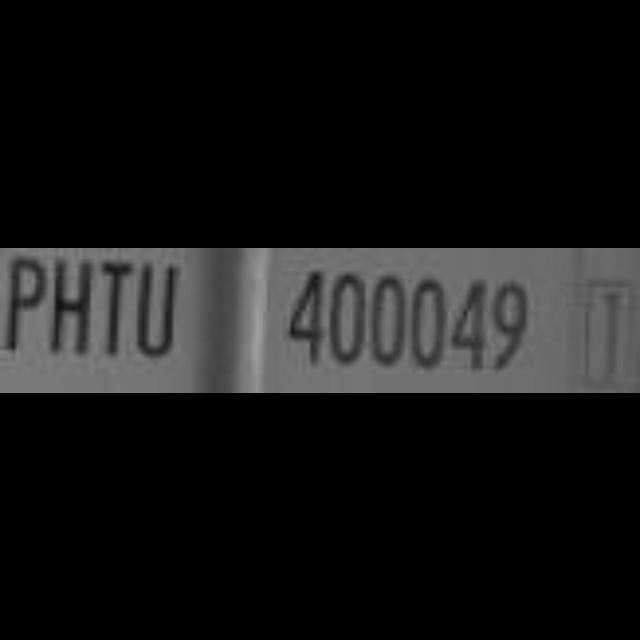0: (407, 265, 448, 375), (328, 260, 368, 368), (369, 258, 407, 370)
1: (578, 278, 640, 392)
4: (281, 260, 329, 366), (449, 270, 488, 376)
9: (490, 270, 532, 372)
h: (44, 248, 98, 360)
p: (0, 248, 50, 364)
t: (96, 248, 134, 358)
u: (130, 248, 184, 356)
